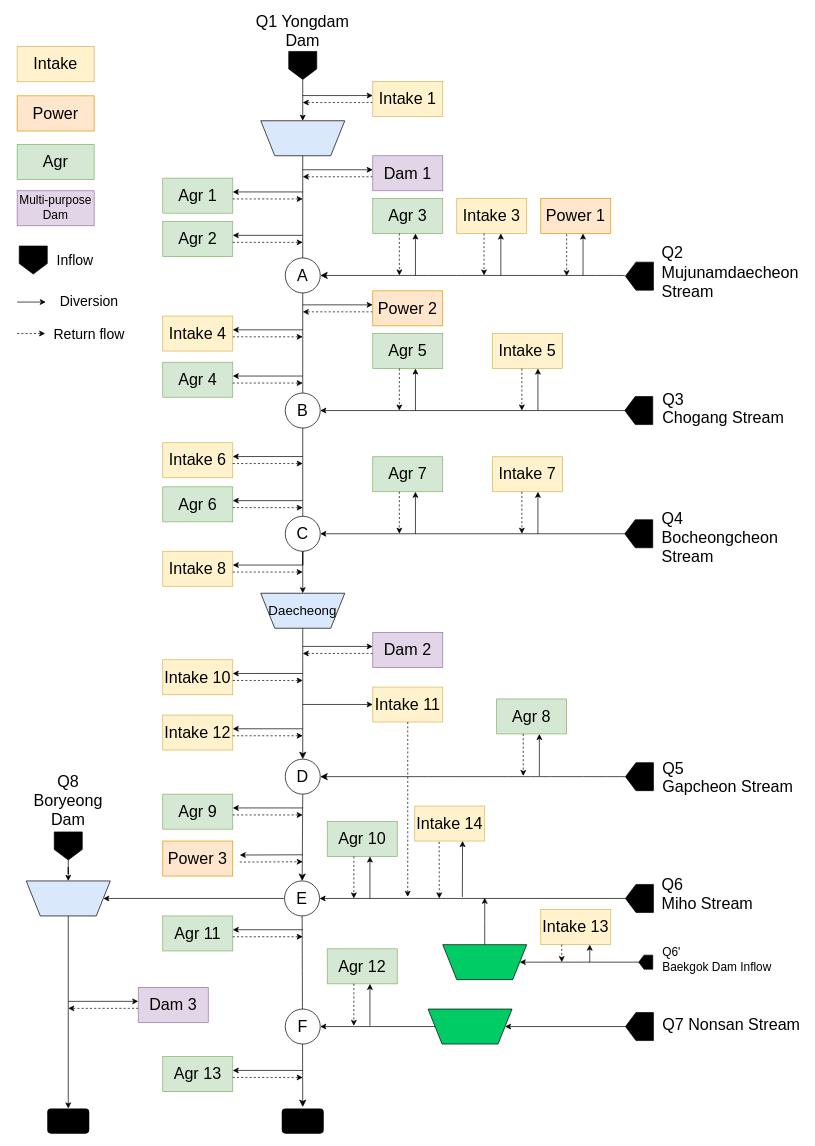
Some shapes in this 815 by 1146 pixel diagram are drawn without their labels. Here are the shapes that lost their labels. From the top down, the box of each, then its label:
(260, 120, 345, 156): Yongdam
(26, 880, 110, 916): Boryeong
(442, 944, 527, 980): Baekgok Reservoir
(427, 1008, 512, 1044): Tapjeong Reservoir
